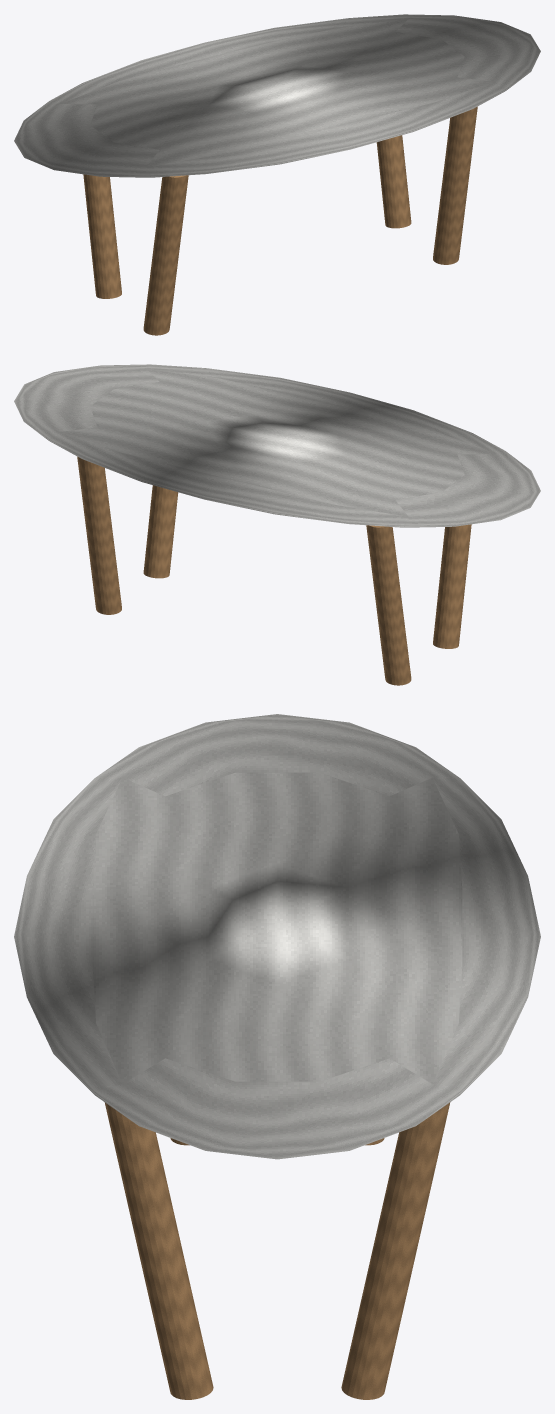
The picture shows the model from 3 angles, top to bottom: view 1: azimuth 30°, elevation 25°; view 2: azimuth 150°, elevation 25°; view 3: azimuth 270°, elevation 25°; orthographic projection. The views are drawn at different scales.
Parts seen in each view (by area): view 1: 1 tabletop, 2 front_left_leg, 3 front_right_leg, 4 back_left_leg, 5 back_right_leg; view 2: 1 tabletop, 4 back_left_leg, 5 back_right_leg, 2 front_left_leg, 3 front_right_leg; view 3: 1 tabletop, 3 front_right_leg, 5 back_right_leg.
Part boxes in pixels (x1,y1,x2,y2): 1 tabletop: [14, 14, 540, 177]; 2 front_left_leg: [143, 175, 188, 335]; 3 front_right_leg: [433, 106, 477, 264]; 4 back_left_leg: [83, 174, 121, 298]; 5 back_right_leg: [376, 135, 411, 228]; 1 tabletop: [14, 364, 540, 527]; 4 back_left_leg: [366, 525, 411, 685]; 5 back_right_leg: [77, 456, 121, 614]; 2 front_left_leg: [433, 524, 471, 648]; 3 front_right_leg: [143, 485, 178, 578]; 1 tabletop: [14, 714, 540, 1159]; 3 front_right_leg: [104, 1102, 213, 1399]; 5 back_right_leg: [341, 1102, 450, 1399].
Size of the model in its own units: 2.8 by 1 by 1.4.
2 materials, 2 textured.
